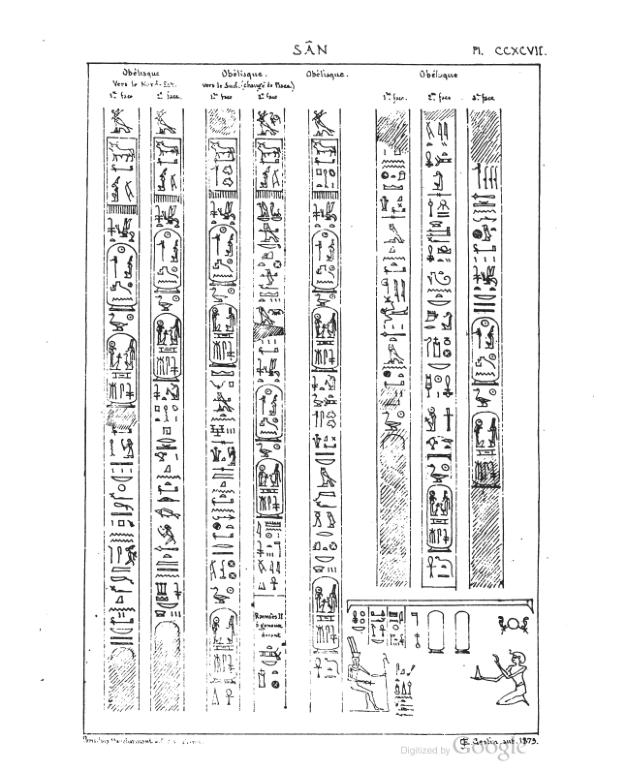circle: (102, 331, 141, 411), (470, 407, 507, 490), (104, 239, 140, 316), (470, 313, 506, 389), (150, 309, 186, 382), (423, 481, 458, 555), (203, 300, 241, 368), (252, 458, 292, 522), (150, 223, 186, 292), (311, 575, 342, 653), (308, 302, 341, 375), (310, 226, 342, 298), (207, 222, 242, 287), (253, 381, 286, 443), (207, 606, 243, 651), (152, 621, 187, 661), (424, 608, 447, 658), (451, 608, 471, 659)
